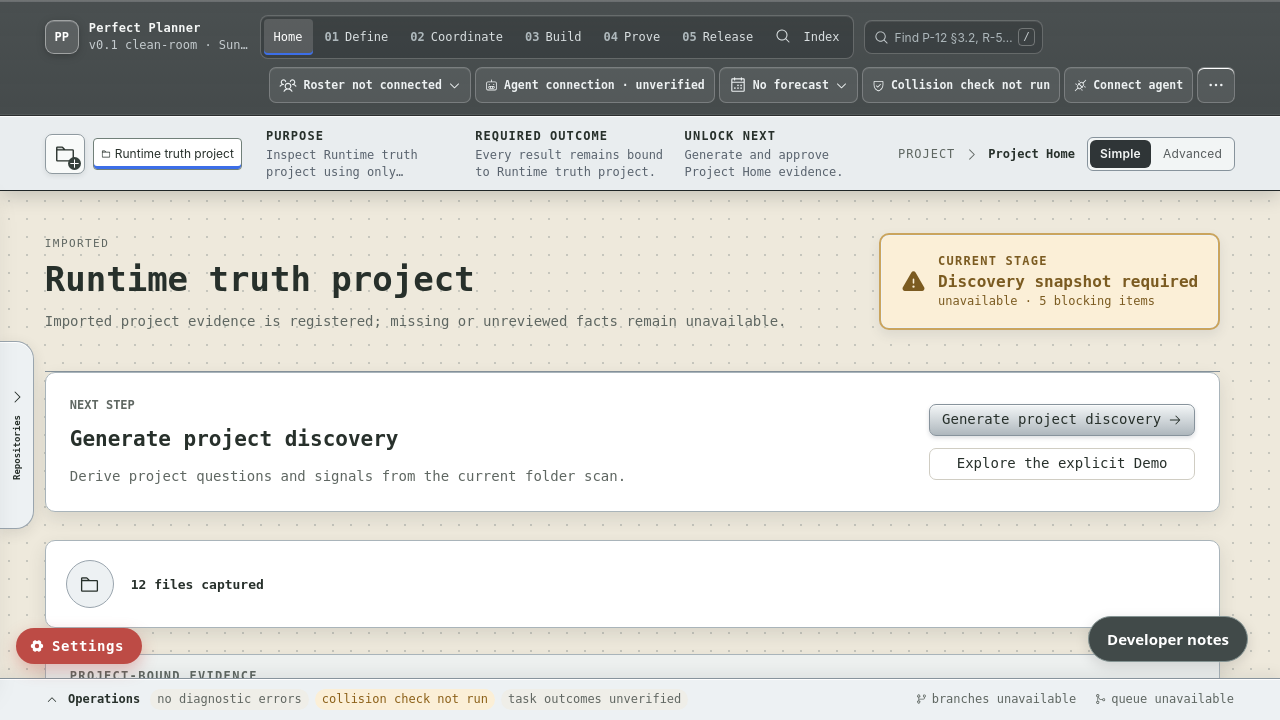
it: project-scoped Runtime & Connections surface › foreign and expired receipts render explicit reasons and keep actions disabled
The width and height of the screenshot is (1280, 720).
Click the button named "More actions".
click(1216, 85)  # box [1197,67,1235,103]
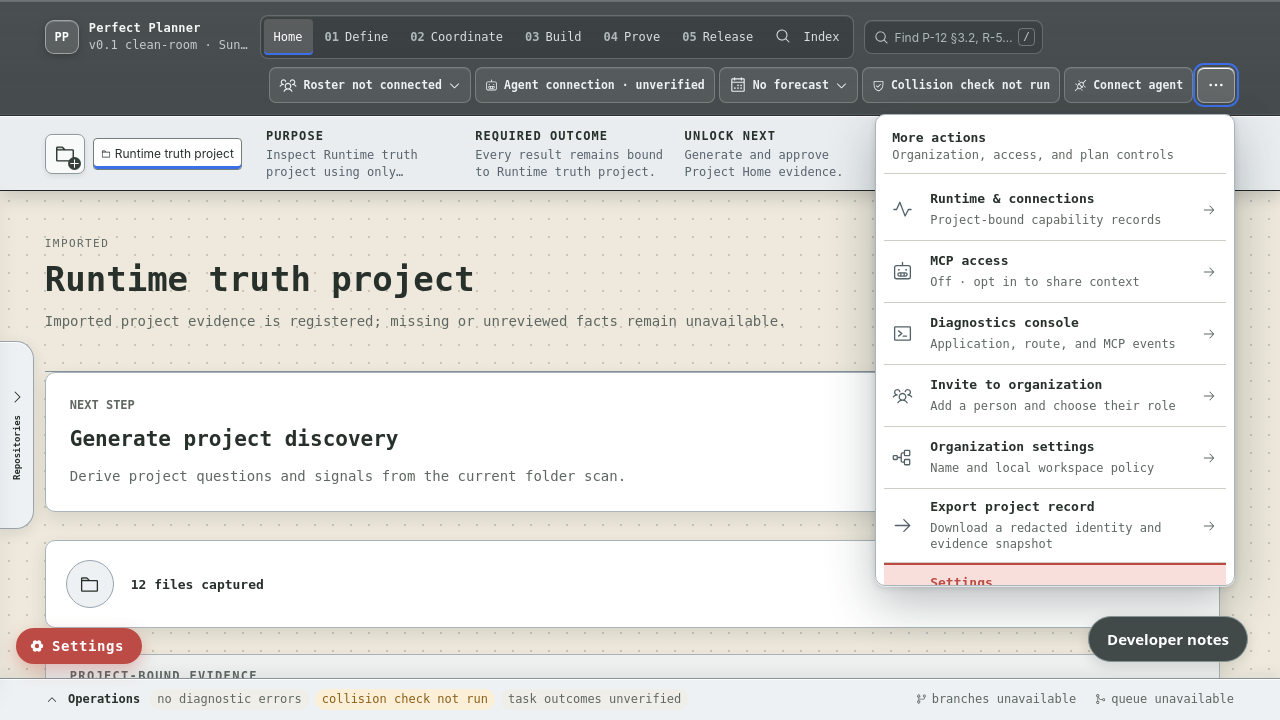
Click the button "Runtime & connections Project-bound capability records".
click(1055, 210)  # box [884,179,1226,241]
(page scrolled)
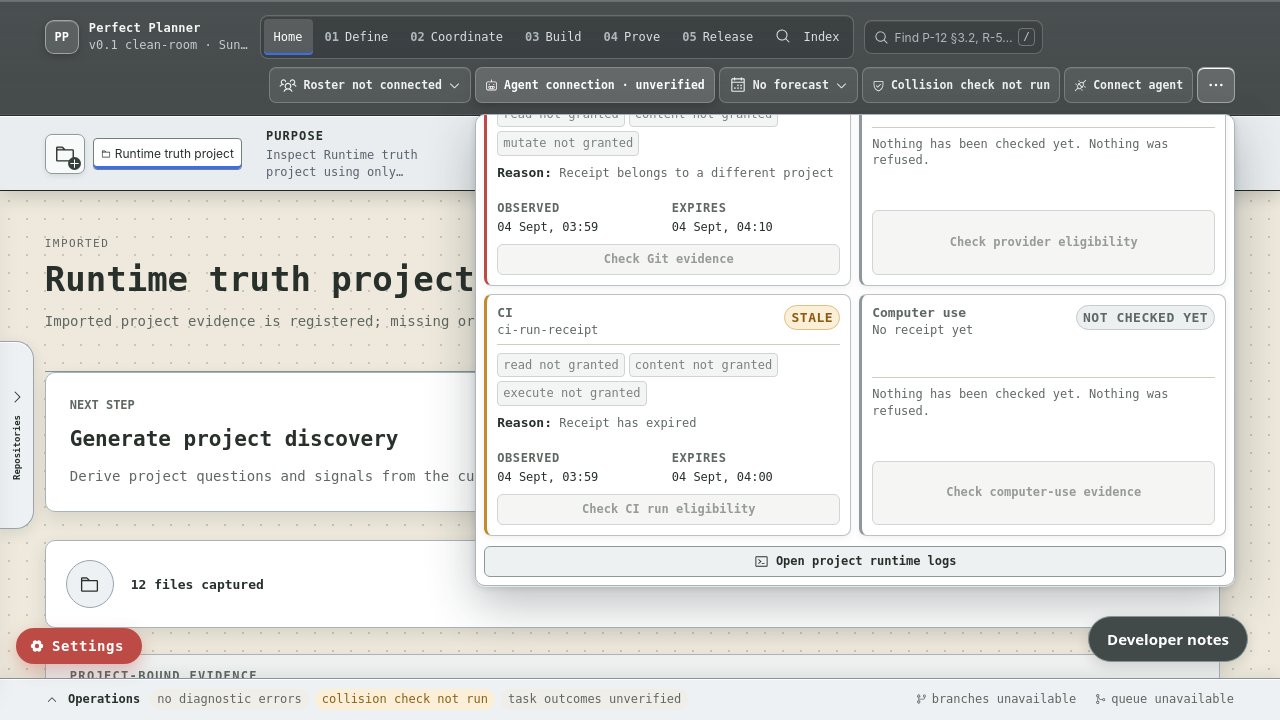
Expected: the element named "Git runtime capability" shows "Receipt belongs to a different project", [559,166,834,180]
Expected: the button "Check Git evidence" is disabled, [497,244,840,274]
Expected: the element named "CI runtime capability" shows "Receipt has expired", [559,416,696,430]
